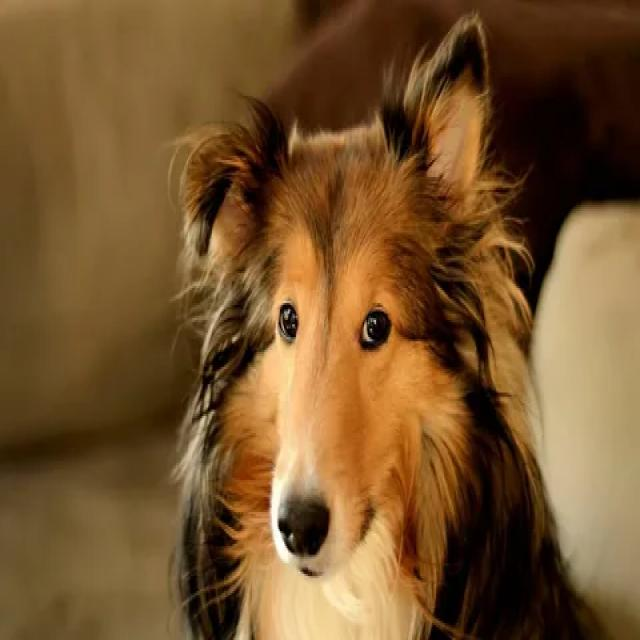Dog: (175, 23, 545, 640)
